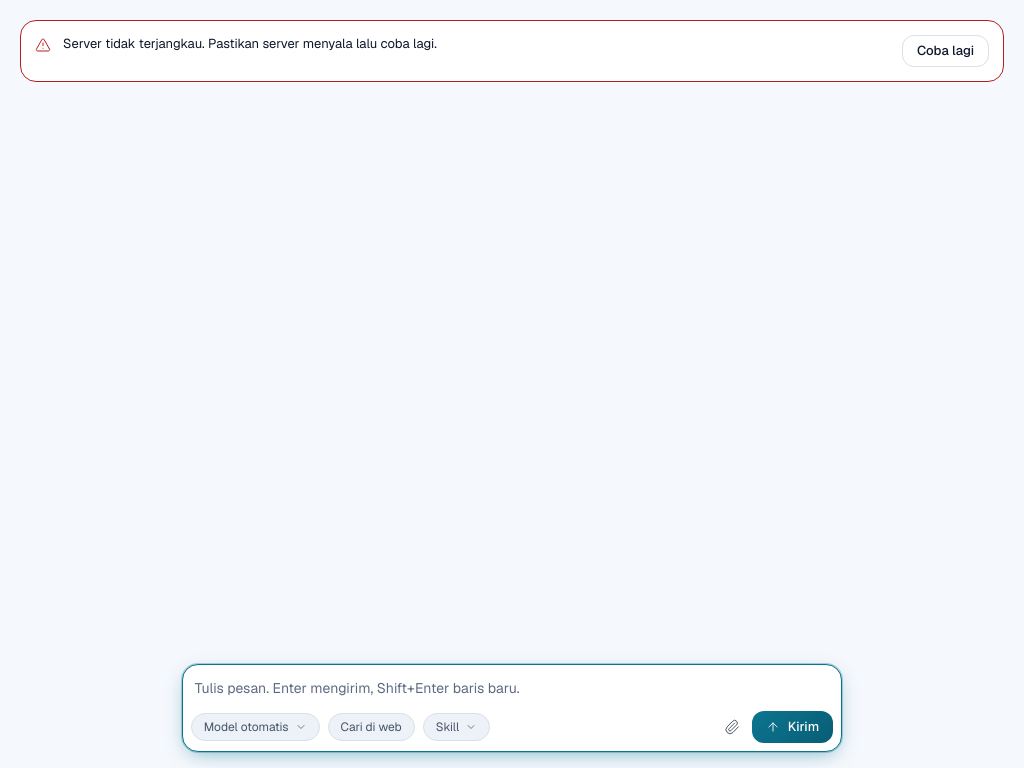
Test case: ChatScreen: memuat riwayat › error memuat menampilkan pesan dengan langkah berikutnya dan Coba lagi memuat ulang
Expected: the message shows "Server tidak terjangkau. Pastikan server menyala lalu coba lagi.", [63,35,437,52]
Click the button "Coba lagi" at (945, 51), box [902,35,989,67]
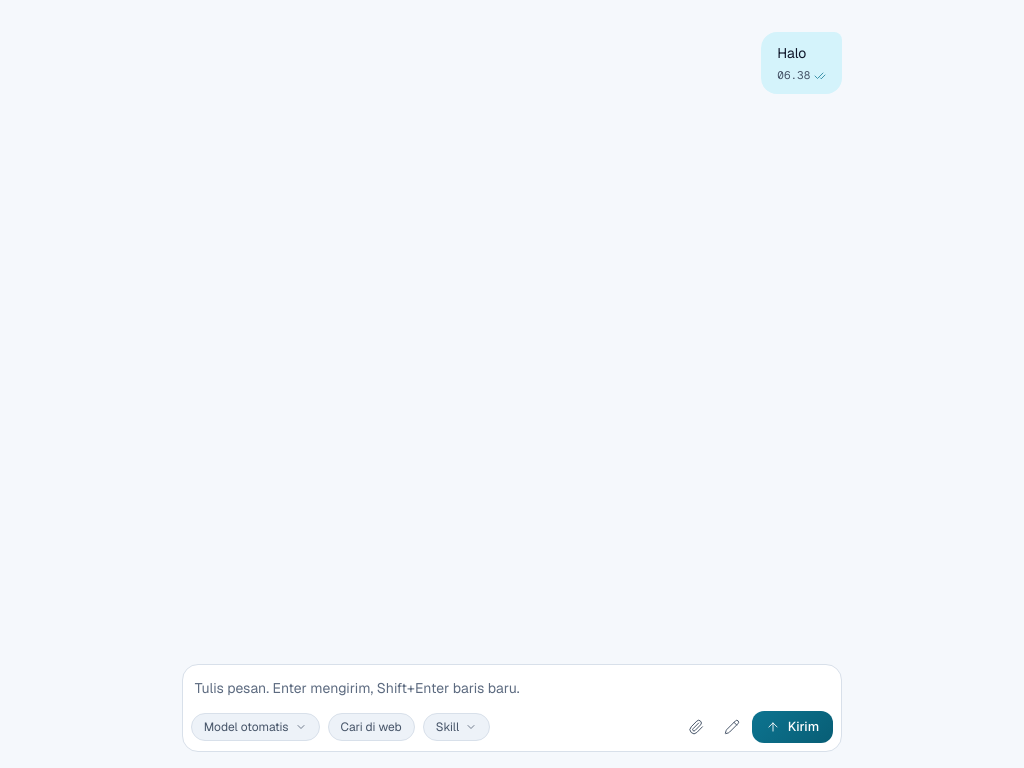
Expected: the text "Halo" is shown, [777,44,806,62]
